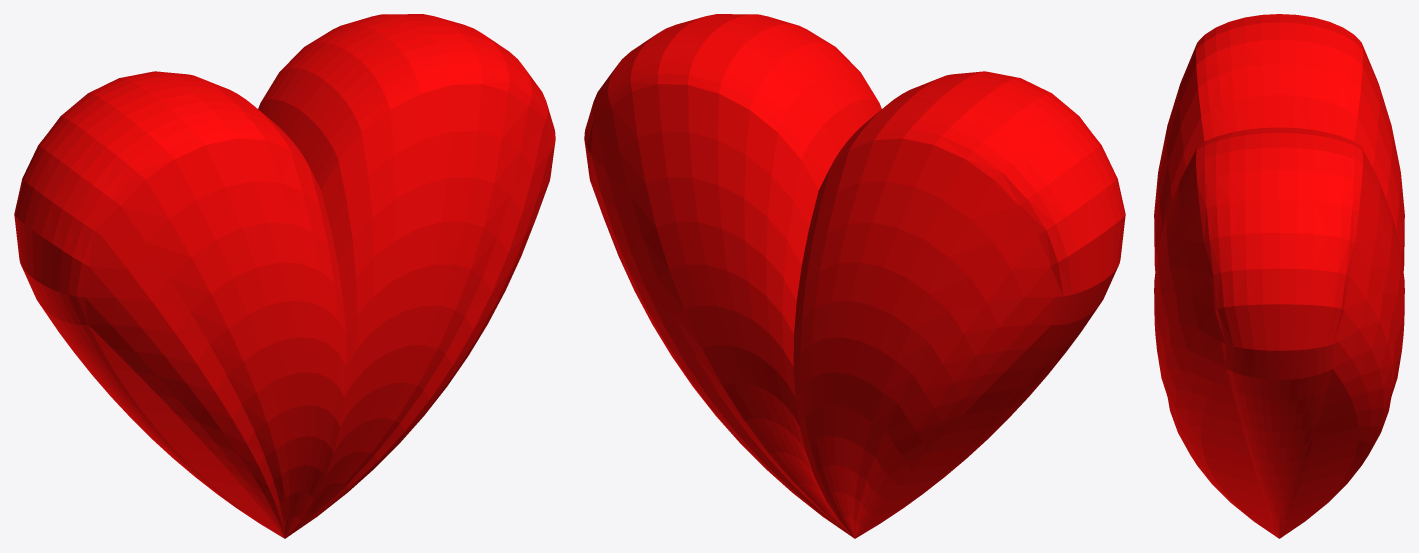
The model's file is Heart.dae.
3 renders of one model, left to right at view 1: azimuth 30°, elevation 25°; view 2: azimuth 150°, elevation 25°; view 3: azimuth 270°, elevation 25°, orthographic. The views are drawn at different scales.
Parts seen in each view (by area): view 1: group_2, group_1; view 2: group_2, group_1; view 3: group_1, group_2.
Boxes of the visible parts, bbox=[...] form: group_2: bbox=[14, 71, 346, 538]; group_1: bbox=[258, 14, 555, 538]; group_2: bbox=[793, 71, 1125, 538]; group_1: bbox=[584, 14, 881, 538]; group_1: bbox=[1154, 127, 1404, 538]; group_2: bbox=[1154, 14, 1404, 270].
Bounding box in the file's own units: 44.39 × 20.1 × 40.16.
